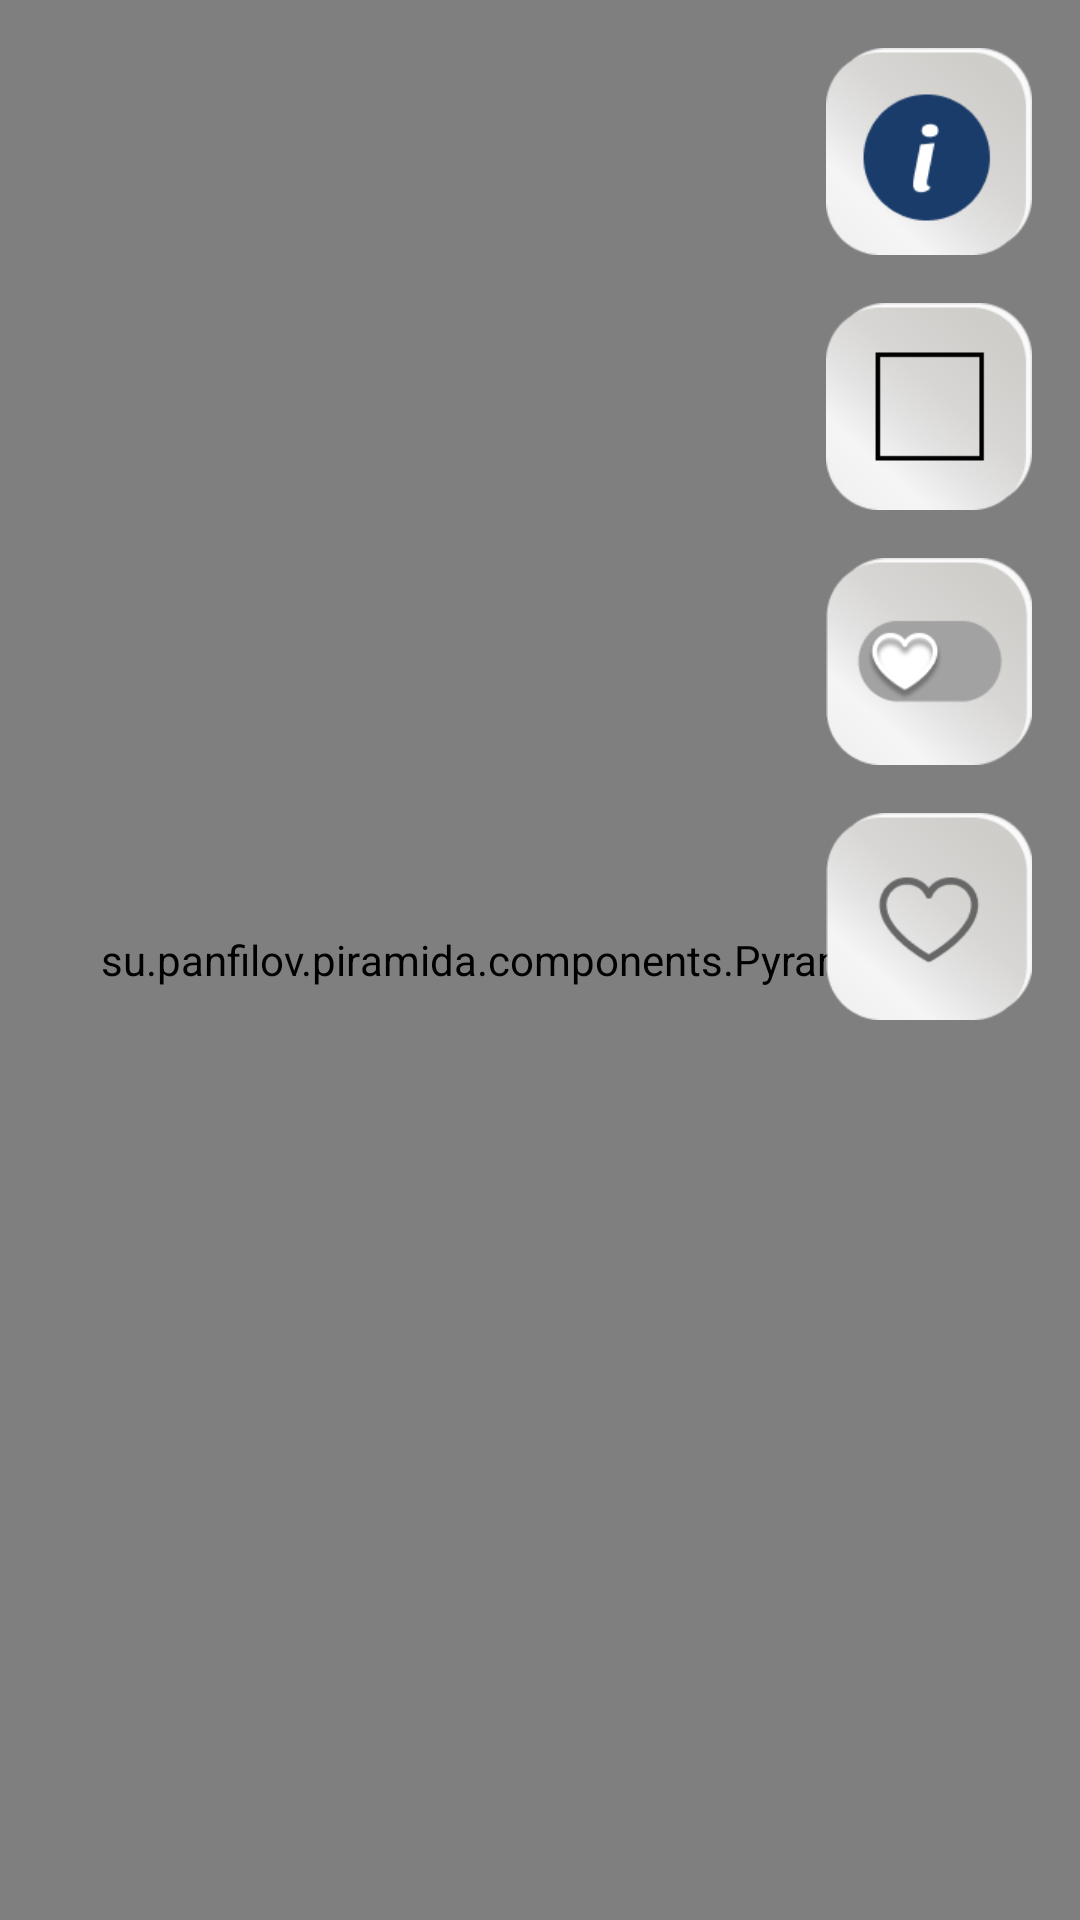

Named icons in this screenshot (1080 × 1920) and their bounding boxes, [x1, y1, x2, y2]:
favorites: [826, 558, 1032, 765]
info piramida: [826, 48, 1032, 255]
like: [826, 813, 1032, 1020]
square: [826, 303, 1032, 510]
